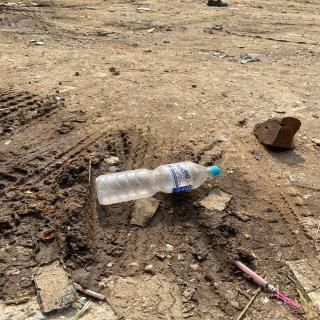Plastic-bottle: (95, 160, 225, 208)
